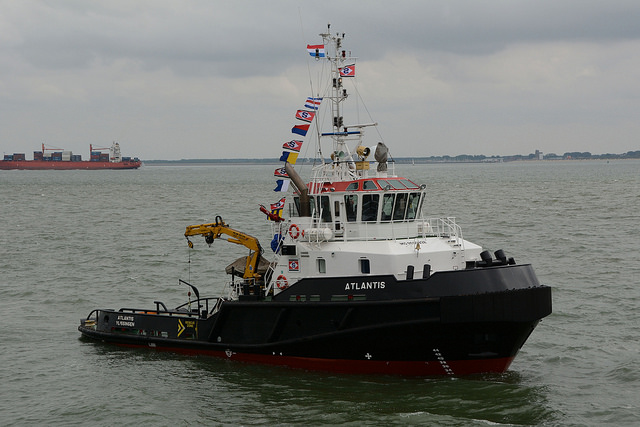container_ship: (2, 143, 144, 172)
tug_boat: (70, 66, 542, 372)
